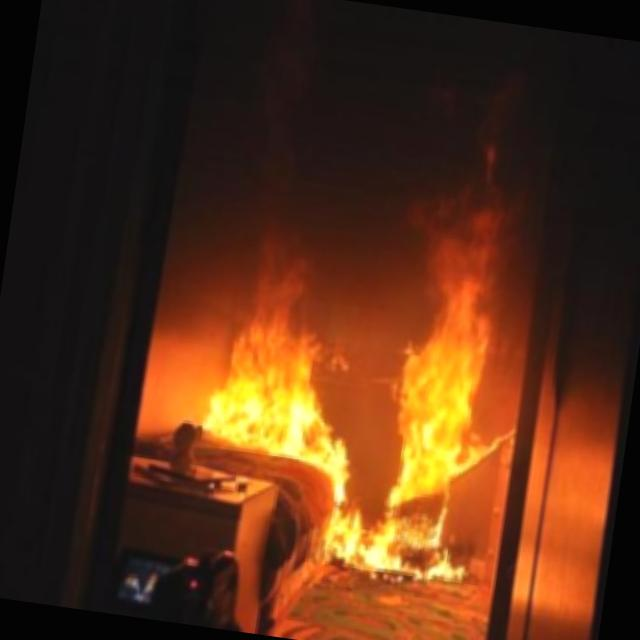fire: (119, 136, 556, 630)
